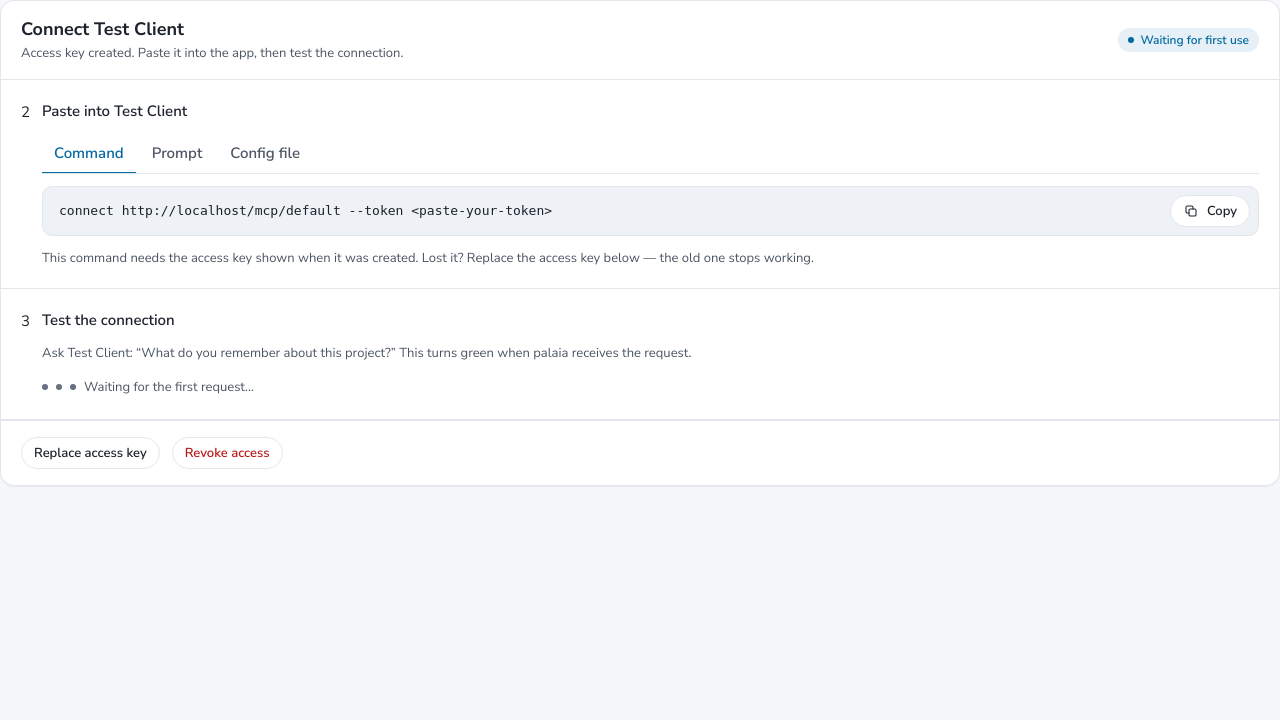
Test: revoking and replacing (report §5.5) › replaces the key: a new one with the same permissions, then the old one revoked
Click the button "Replace access key".
click(90, 453)  # box left=21, top=437, right=160, bottom=469
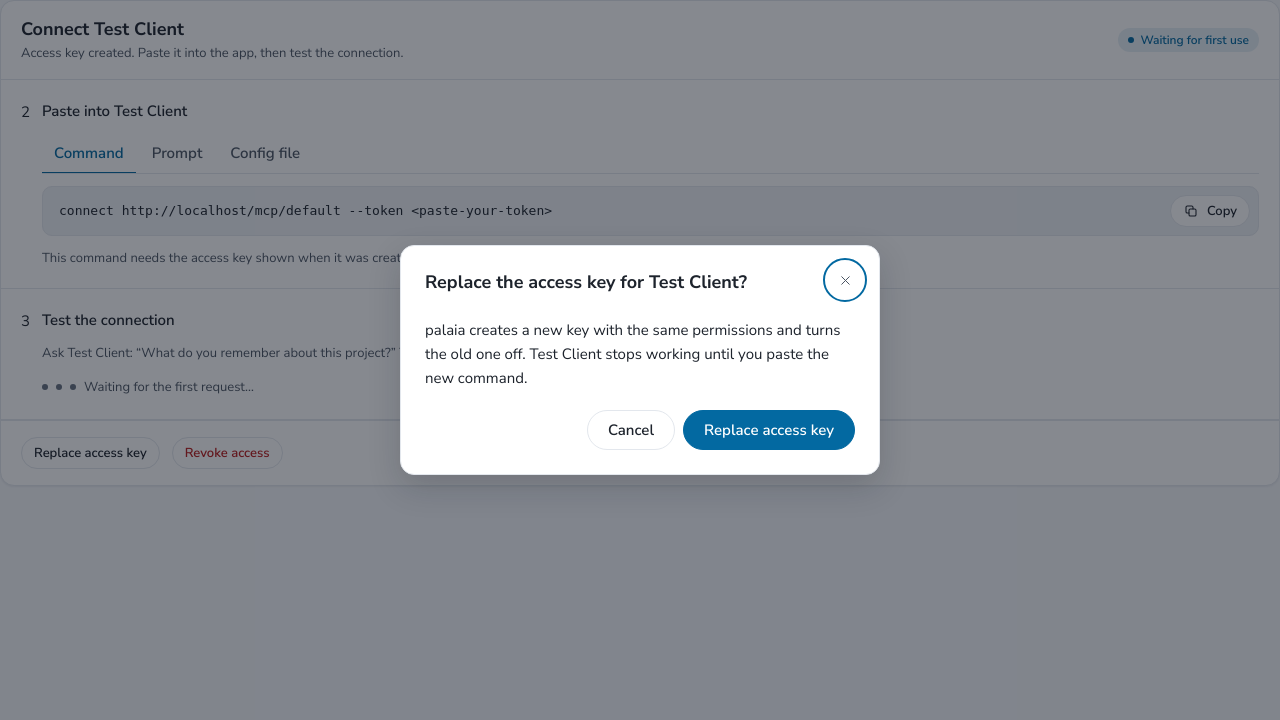
Click the button "Replace access key".
click(769, 430)  # box left=683, top=410, right=855, bottom=450
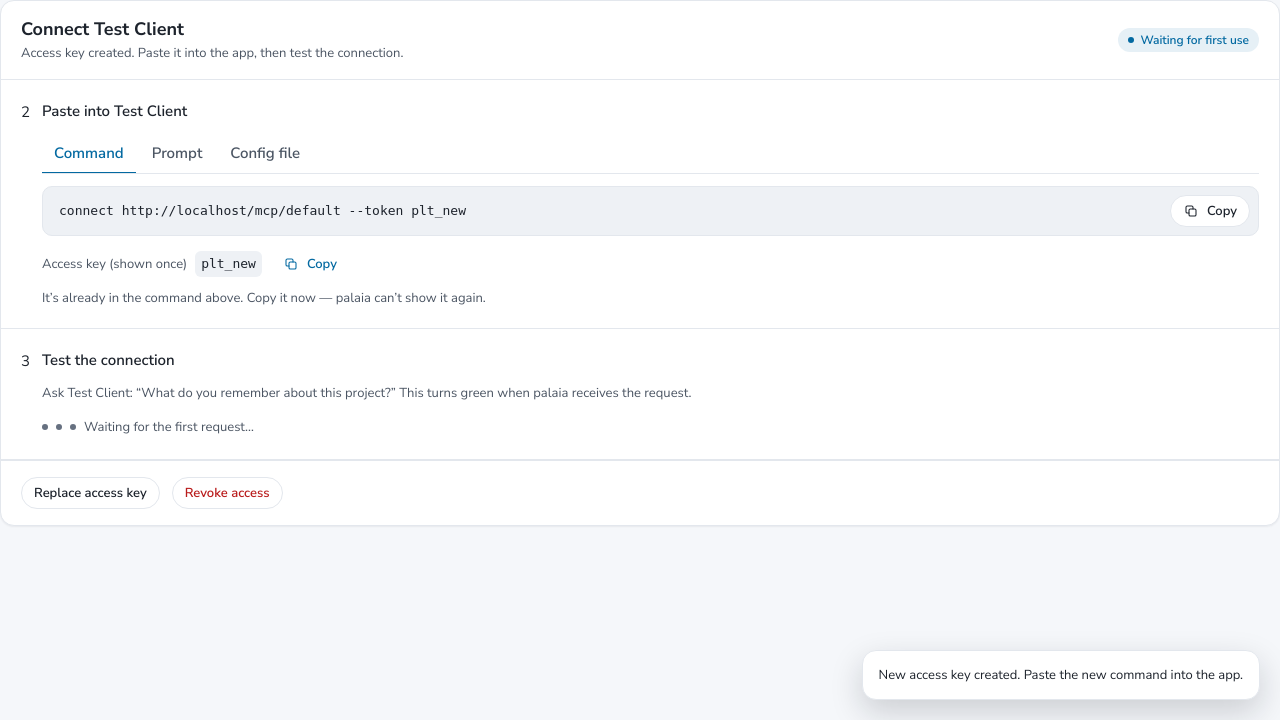
Result: the text "--token plt_new" is shown at left=59, top=203, right=466, bottom=218
